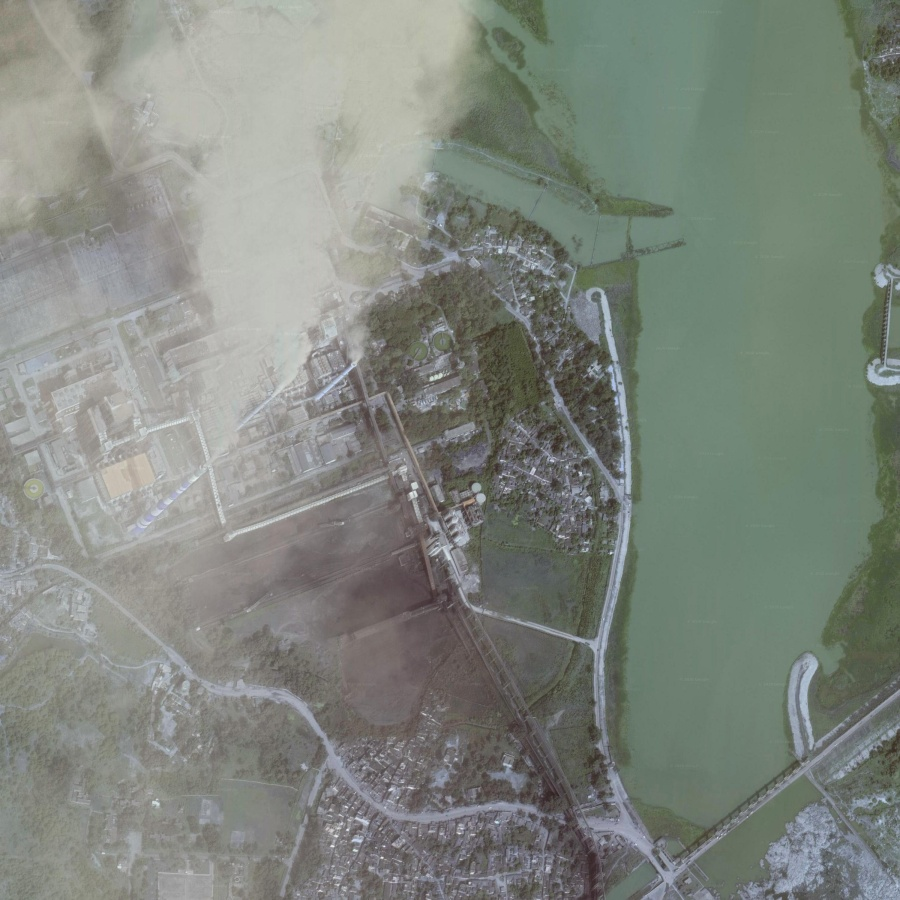PowerPlant: (94, 284, 384, 565)
